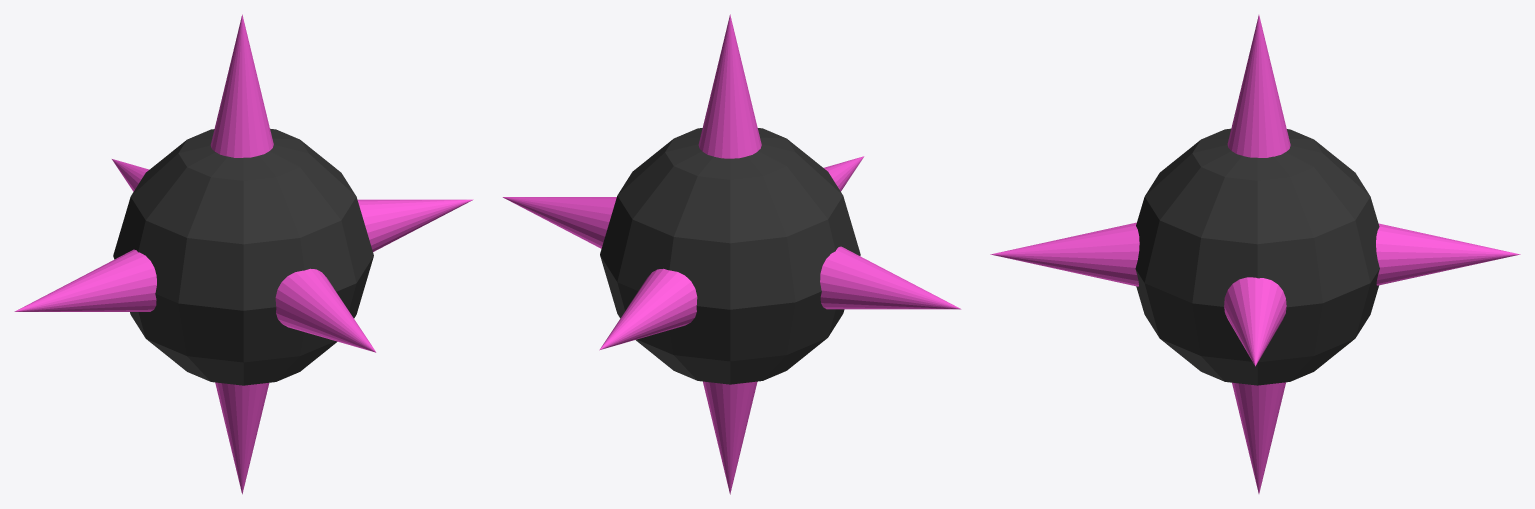
File: Neon Survival Bomb 2.FBX
3 views of the same model, side by side, from view 1: azimuth 30°, elevation 25°; view 2: azimuth 150°, elevation 25°; view 3: azimuth 270°, elevation 25° (orthographic).
Parts seen in each view (by area): view 1: Sphere001, Cone006, Cone001, Cone003, Cone005, Cone002, Cone004; view 2: Sphere001, Cone006, Cone001, Cone004, Cone002, Cone005, Cone003; view 3: Sphere001, Cone001, Cone003, Cone004, Cone005, Cone002.
Boxes of the visible parts, box(x1,y1,x2,y2) form: Sphere001: box(113, 128, 373, 385); Cone006: box(14, 249, 156, 311); Cone001: box(210, 14, 273, 157); Cone003: box(275, 268, 376, 352); Cone005: box(357, 199, 473, 251); Cone002: box(215, 382, 269, 494); Cone004: box(112, 159, 148, 191); Sphere001: box(600, 128, 860, 384); Cone006: box(820, 246, 961, 309); Cone001: box(698, 14, 761, 158); Cone004: box(599, 268, 697, 350); Cone002: box(703, 381, 757, 494); Cone005: box(502, 197, 616, 248); Cone003: box(824, 156, 864, 191); Sphere001: box(1135, 128, 1379, 385); Cone001: box(1227, 15, 1290, 157); Cone003: box(990, 222, 1139, 286); Cone004: box(1376, 223, 1520, 285); Cone005: box(1224, 277, 1286, 366); Cone002: box(1232, 382, 1285, 493).
Size of the model in its own units: 14.67 by 14.67 by 14.67.
